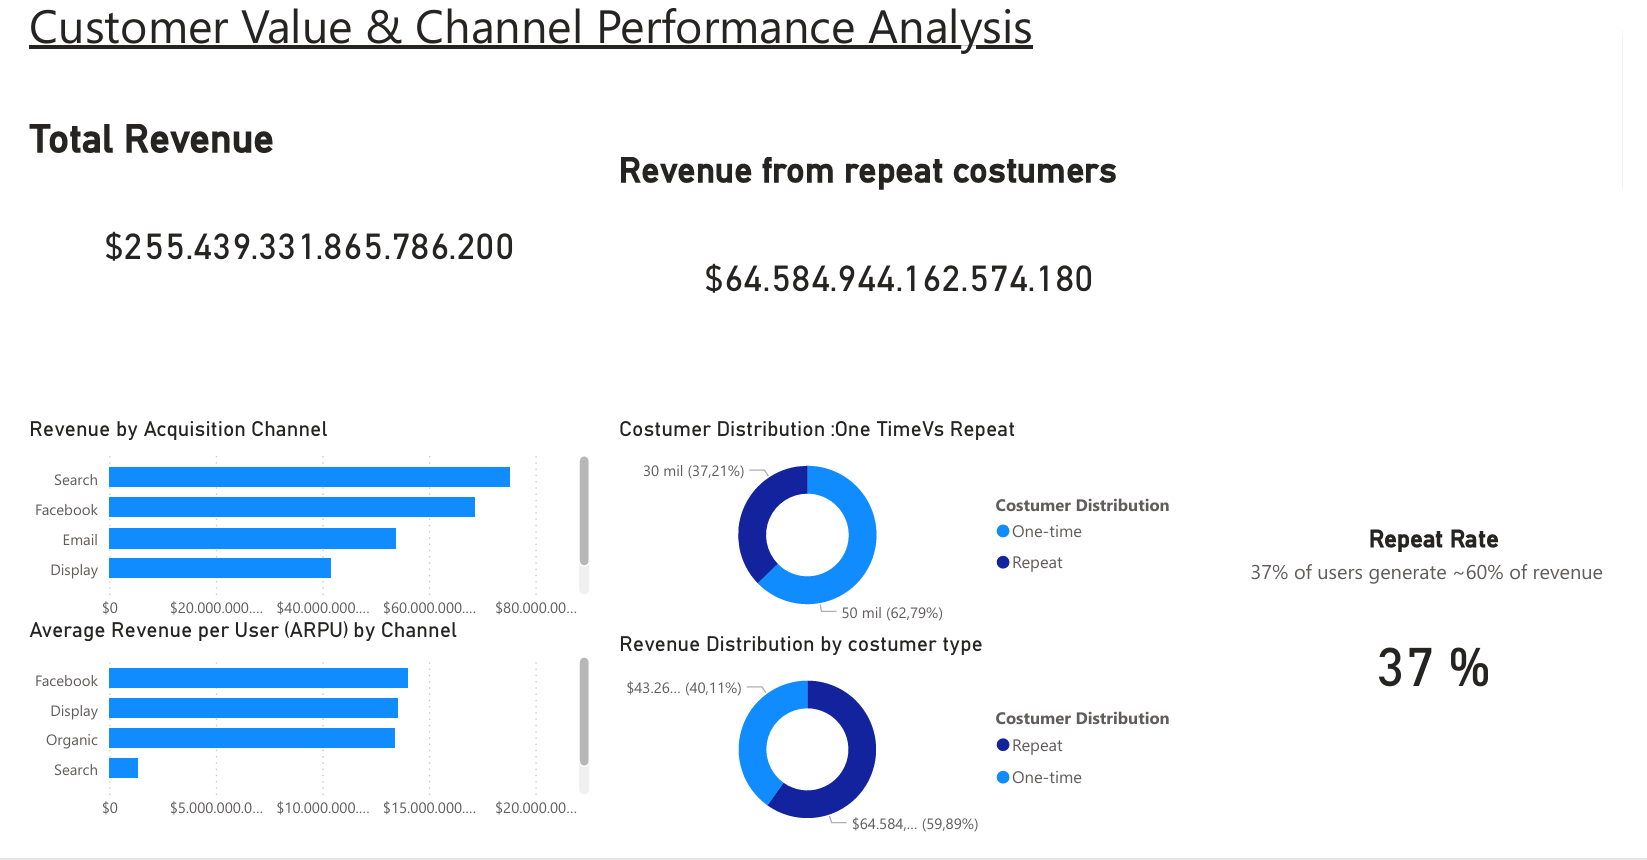

The dashboard page shown, as its layout file describes it:
{"tool":"powerbi","page":{"name":"Página 1","canvas":[1280,720],"ordinal":0},"visuals":[{"type":"card","title":"Total Revenue","fields":{"Values":["Sum(q03_revenue_avg_user_pertraffic_resource.revenue)"]},"box":[0,102.9,458.3,171.5],"z":0},{"type":"card","title":"Revenue from repeat costumers","fields":{"Values":["Sum(q01_new_costumer_recurrent_costumer.revenue)"]},"box":[472,130.4,458.3,171.5],"z":1000},{"type":"donutChart","title":"Costumer Distribution :One TimeVs Repeat","fields":{"Category":["q01_new_costumer_recurrent_costumer.customer_type"],"Y":["Sum(q01_new_costumer_recurrent_costumer.users)"]},"box":[472,343.1,458.3,171.5],"z":2000},{"type":"donutChart","title":"Revenue Distribution by costumer type","fields":{"Category":["q01_new_costumer_recurrent_costumer.customer_type"],"Y":["Sum(q01_new_costumer_recurrent_costumer.revenue)"]},"box":[472,514.6,458.3,171.5],"z":3000},{"type":"card","title":"Repeat Rate","fields":{"Values":["q01_new_costumer_recurrent_costumer.Repeat Rate"]},"box":[977,429.5,303.3,171.5],"z":4000},{"type":"textbox","box":[0,0,859,109.8],"z":5000},{"type":"barChart","title":"Revenue by Acquisition Channel","fields":{"Category":["q03_revenue_avg_user_pertraffic_resource.traffic_source"],"Y":["Sum(q03_revenue_avg_user_pertraffic_resource.revenue)"]},"box":[0,343.1,458.3,171.5],"z":6000},{"type":"barChart","title":"Average Revenue per User (ARPU) by Channel","fields":{"Category":["q03_revenue_avg_user_pertraffic_resource.traffic_source"],"Y":["Avg(q03_revenue_avg_user_pertraffic_resource.avg_revenue_per_user)"]},"box":[0,503.6,458.3,171.5],"z":7000}]}

Visuals, with their boxes on the page's 1280x720 design canvas (x1, y1, x2, y2). These are canvas units, not pixel positions in the 1647x860 screenshot, which may show the page scaled, cropped or inside an application window:
"Total Revenue" card: (x1=0, y1=103, x2=458, y2=274)
"Revenue from repeat costumers" card: (x1=472, y1=130, x2=930, y2=302)
"Costumer Distribution :One TimeVs Repeat" donutChart: (x1=472, y1=343, x2=930, y2=515)
"Revenue Distribution by costumer type" donutChart: (x1=472, y1=515, x2=930, y2=686)
"Repeat Rate" card: (x1=977, y1=430, x2=1280, y2=601)
textbox: (x1=0, y1=0, x2=859, y2=110)
"Revenue by Acquisition Channel" barChart: (x1=0, y1=343, x2=458, y2=515)
"Average Revenue per User (ARPU) by Channel" barChart: (x1=0, y1=504, x2=458, y2=675)
